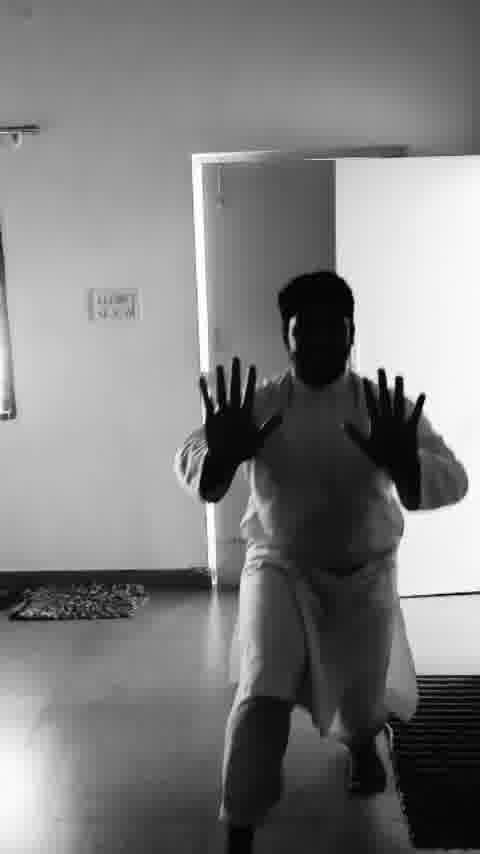duck: (177, 279, 456, 841)
